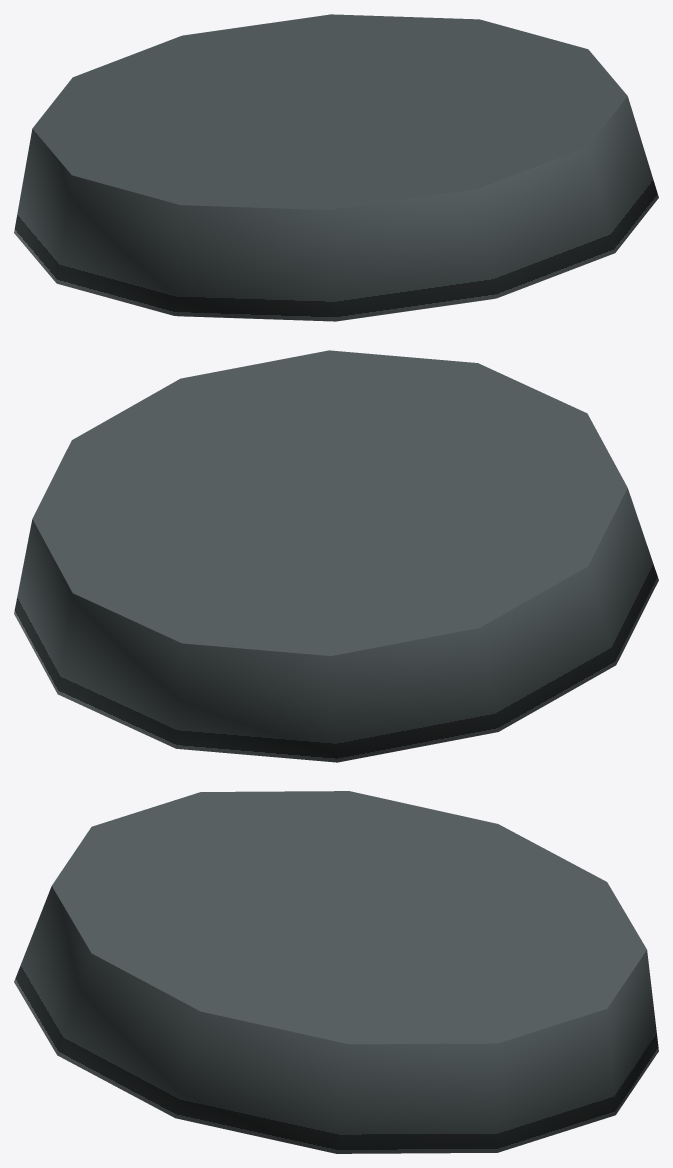
File: H_TiramisuPan.fbx
3 renders of one model, top to bottom at view 1: azimuth 30°, elevation 25°; view 2: azimuth 150°, elevation 25°; view 3: azimuth 270°, elevation 25°, orthographic.
Visible parts, largest first — view 1: TiramisuPan; view 2: TiramisuPan; view 3: TiramisuPan.
Boxes of the visible parts, x1,y1,x2,y2 form: TiramisuPan: [14, 14, 658, 321]; TiramisuPan: [14, 350, 658, 762]; TiramisuPan: [14, 791, 658, 1153].
Bounding box in the file's own units: 49.83 × 14.24 × 49.49.
